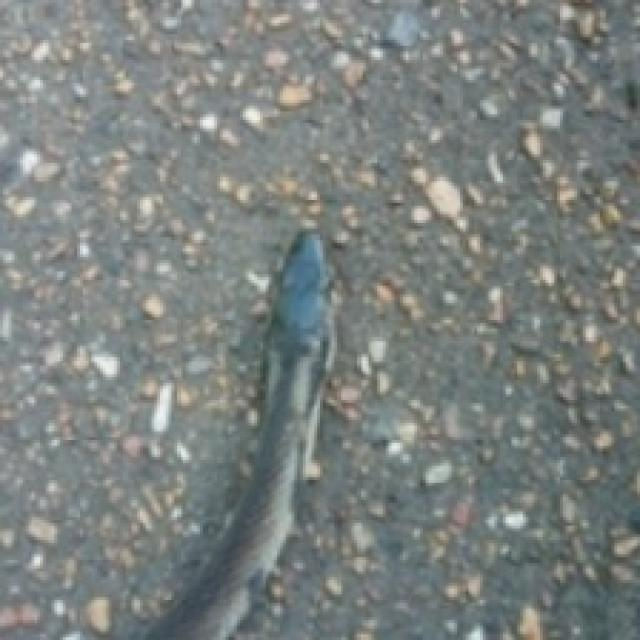reddish rat snake: (140, 231, 334, 637)
